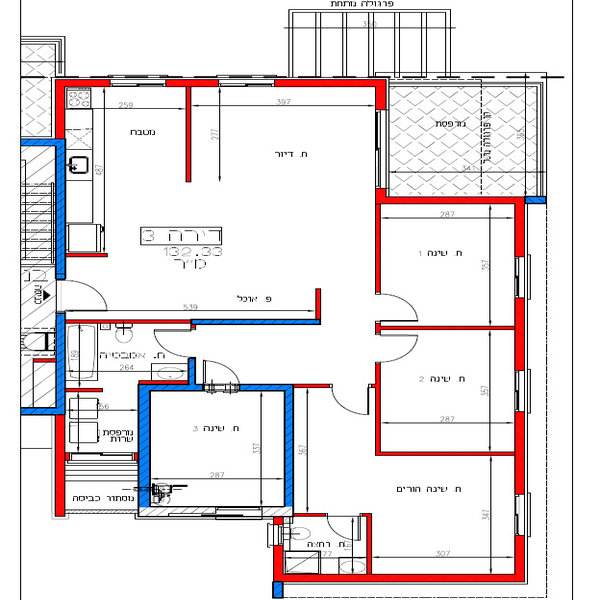door: (51, 279, 115, 314), (198, 357, 246, 394), (372, 291, 423, 324), (148, 327, 201, 357), (379, 331, 420, 366), (332, 386, 369, 420), (327, 515, 363, 544)
room: (182, 79, 385, 326), (54, 81, 194, 327), (134, 382, 295, 523), (367, 451, 530, 580), (376, 323, 527, 460), (374, 195, 527, 328)
wall: (275, 572, 525, 584), (136, 384, 150, 519), (283, 386, 295, 514), (57, 141, 66, 283), (377, 197, 523, 204), (55, 416, 65, 518), (56, 315, 66, 411), (380, 324, 512, 331), (274, 81, 387, 89), (194, 319, 321, 326), (516, 297, 527, 368), (185, 86, 193, 180), (375, 361, 382, 455), (376, 451, 517, 455), (517, 414, 524, 491), (167, 79, 217, 88), (376, 204, 381, 293), (273, 546, 285, 581), (366, 513, 372, 572)
window: (162, 504, 265, 519), (375, 109, 391, 188), (513, 370, 534, 416), (109, 76, 167, 90), (517, 492, 534, 538), (516, 254, 531, 298), (218, 76, 270, 86)
